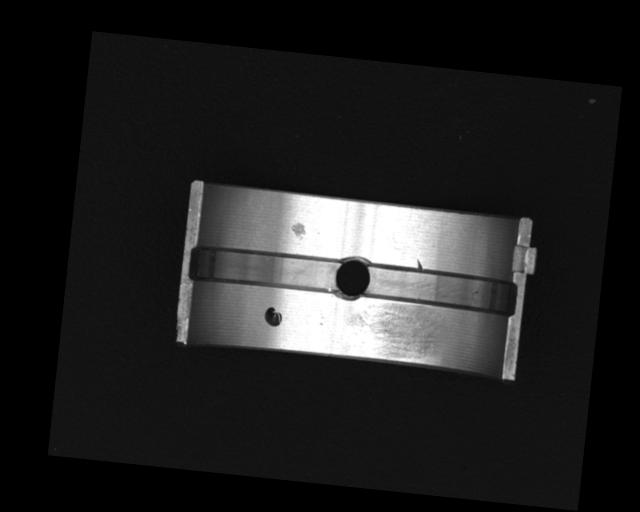blot: (262, 306, 284, 329)
bruise: (289, 220, 308, 240), (415, 258, 423, 270)
gap: (361, 260, 519, 317), (188, 243, 342, 297)
hole: (331, 254, 372, 302)
scratch: (342, 298, 444, 364)
